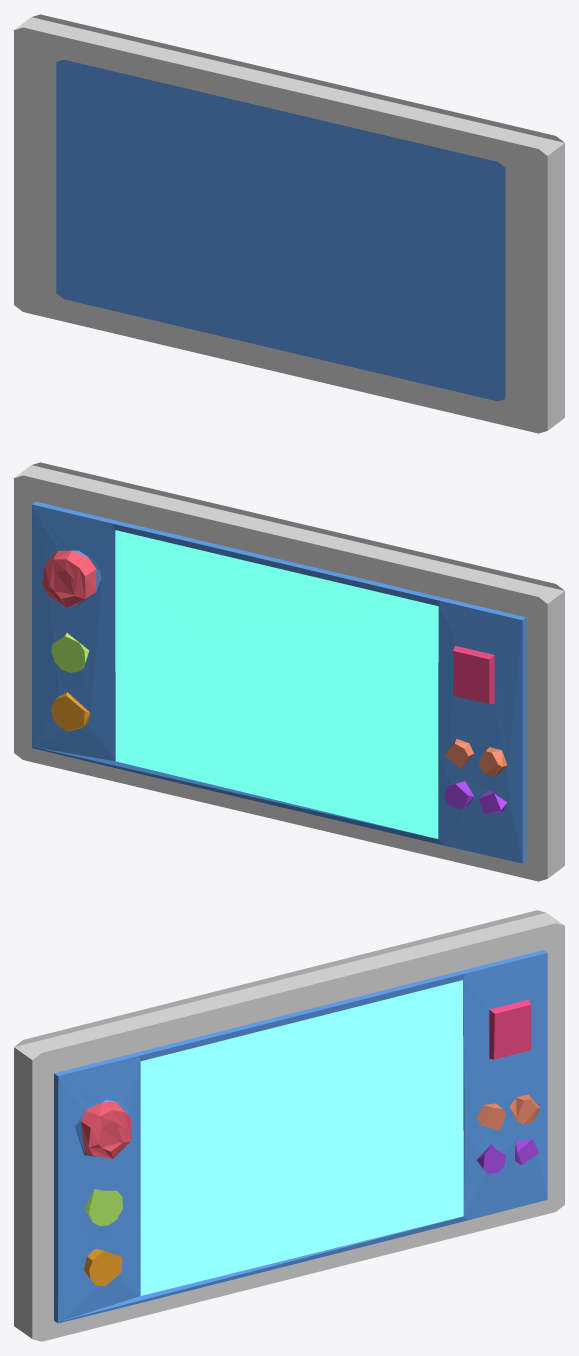
Rendered from Nintendo.fbx.
The picture shows the model from 3 angles, top to bottom: view 1: azimuth 30°, elevation 25°; view 2: azimuth 210°, elevation 25°; view 3: azimuth 270°, elevation 25°; orthographic projection.
Parts seen in each view (by area): view 1: Nintendo; view 2: Nintendo; view 3: Nintendo.
Part boxes in pixels (x1=…): Nintendo: x1=14, y1=14, x2=564, y2=433; Nintendo: x1=14, y1=462, x2=564, y2=881; Nintendo: x1=14, y1=910, x2=564, y2=1341.
Size of the model in its own units: 88.9 by 81.19 by 140.
